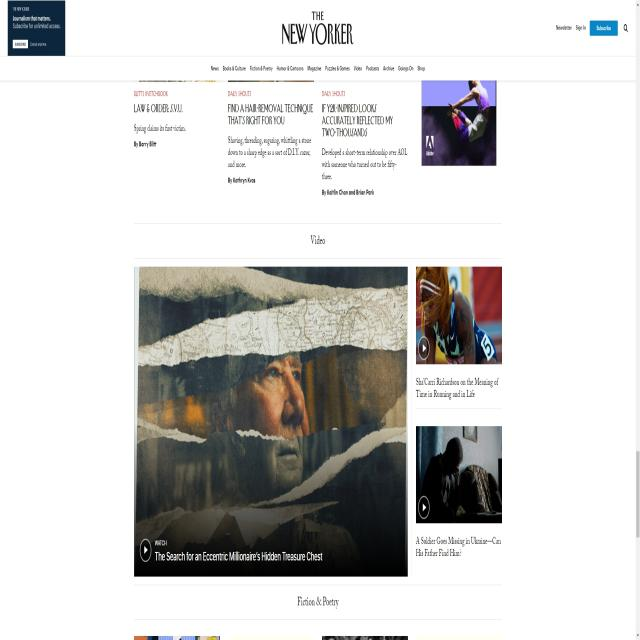menu-bar: (549, 15, 632, 40)
tab-bar: (204, 56, 428, 76)
